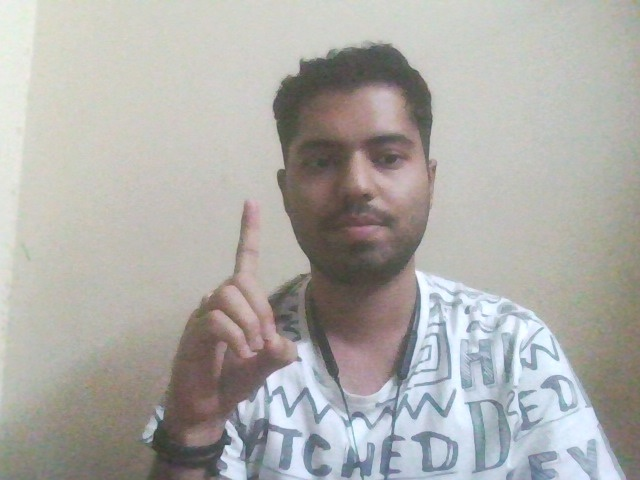Please: (151, 192, 314, 424)
